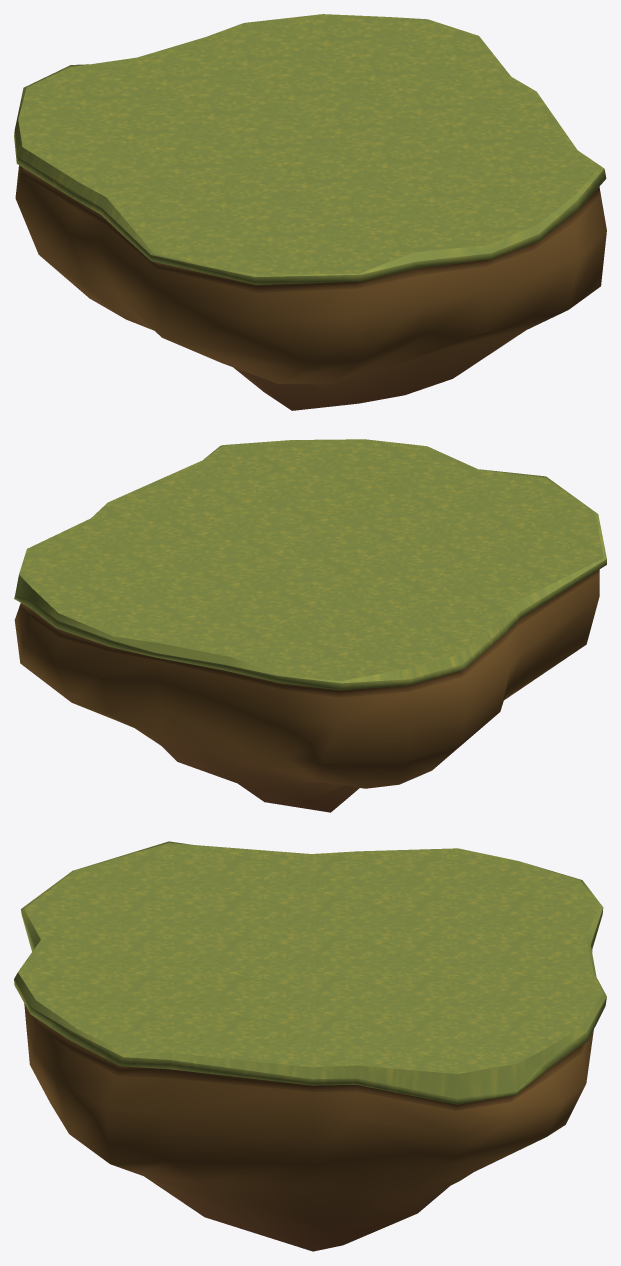
Rendered from obj_IsleBig.fbx.
3 views of the same model, one above another, from view 1: azimuth 30°, elevation 25°; view 2: azimuth 150°, elevation 25°; view 3: azimuth 270°, elevation 25° (orthographic). The views are drawn at different scales.
Parts seen in each view (by area): view 1: obj_IsleBig; view 2: obj_IsleBig; view 3: obj_IsleBig.
Boxes of the visible parts, <box> form: obj_IsleBig: <box>14,14,606,410</box>; obj_IsleBig: <box>14,439,606,812</box>; obj_IsleBig: <box>14,841,606,1251</box>.
Size of the model in its own units: 9801 by 5277 by 10482.
